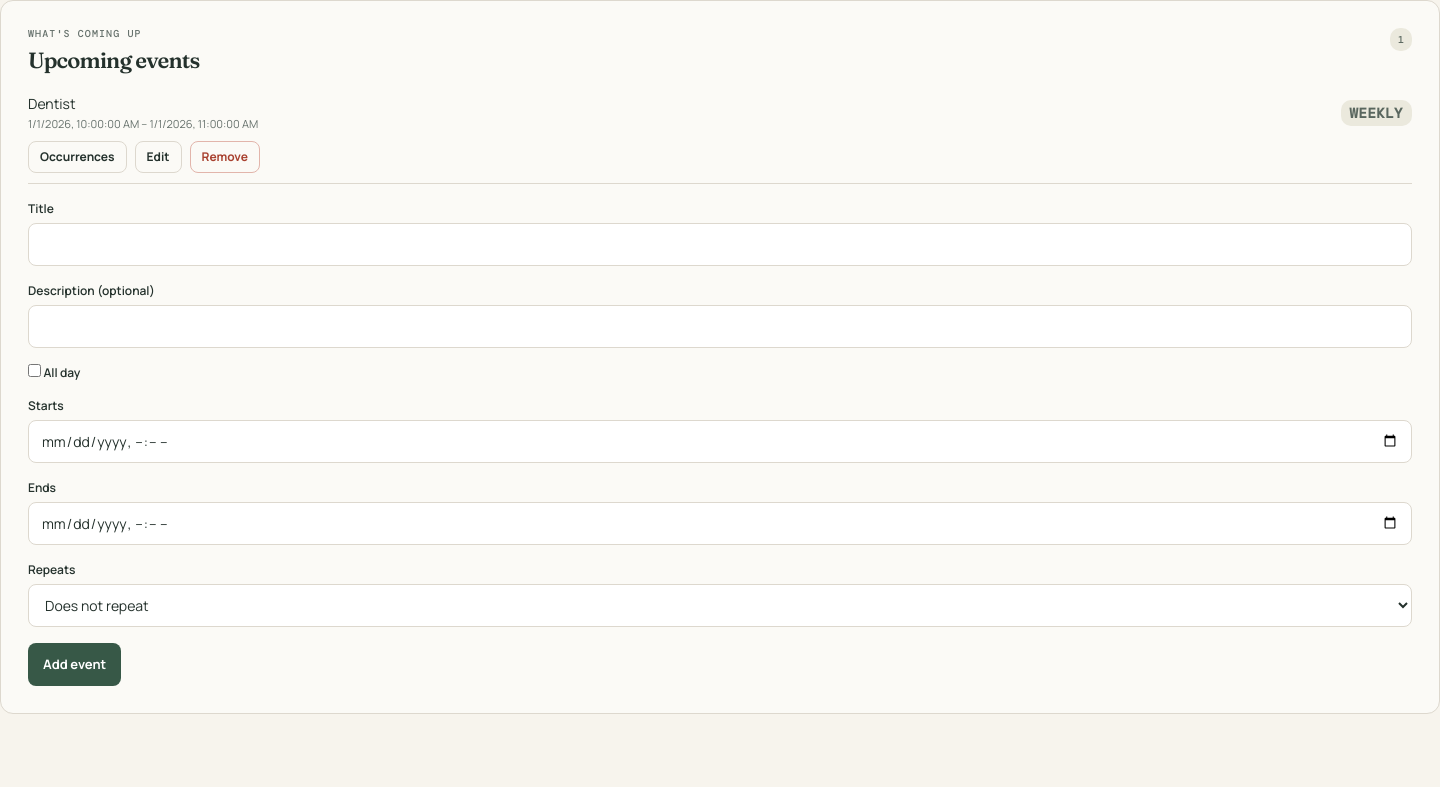
Test: CalendarPanel › loads and skips an occurrence for a recurring event
Click the button "Occurrences" at x=77, y=156, box [28,140,126,172]
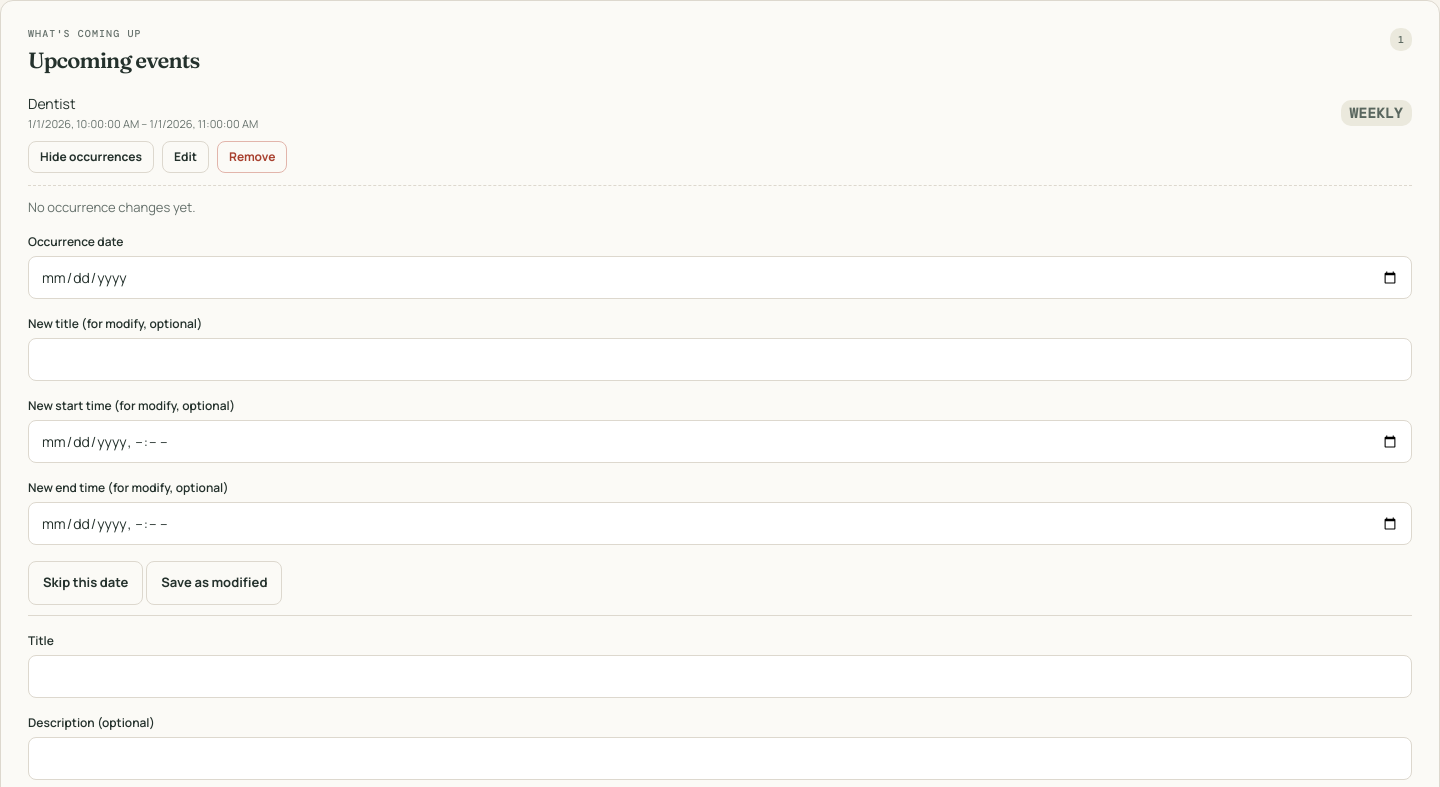
Type "2026-01-08" into the date field labelled "Occurrence date" at x=720, y=278, box [28,256,1412,299]
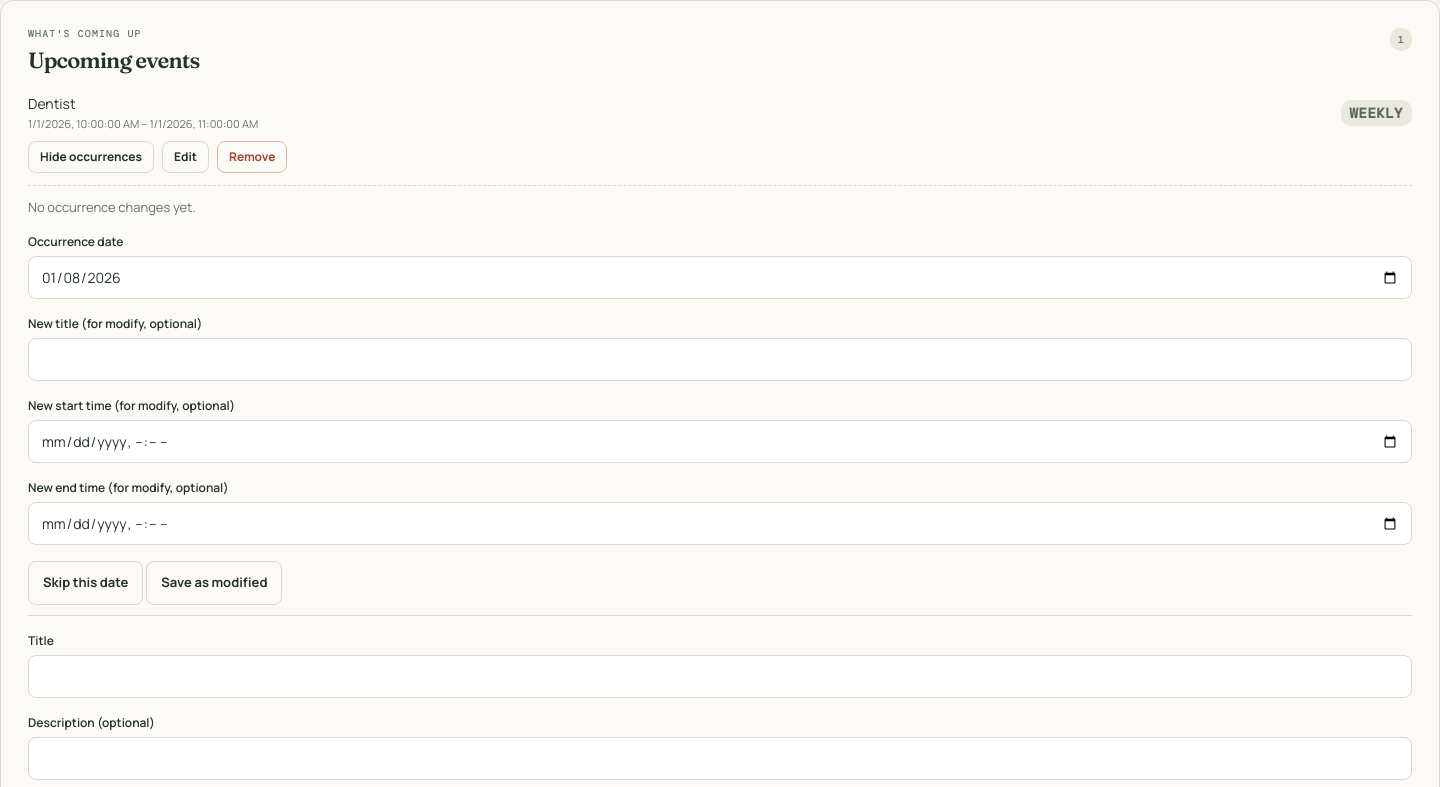
Click the button "Skip this date" at x=86, y=583, box [28,561,144,604]
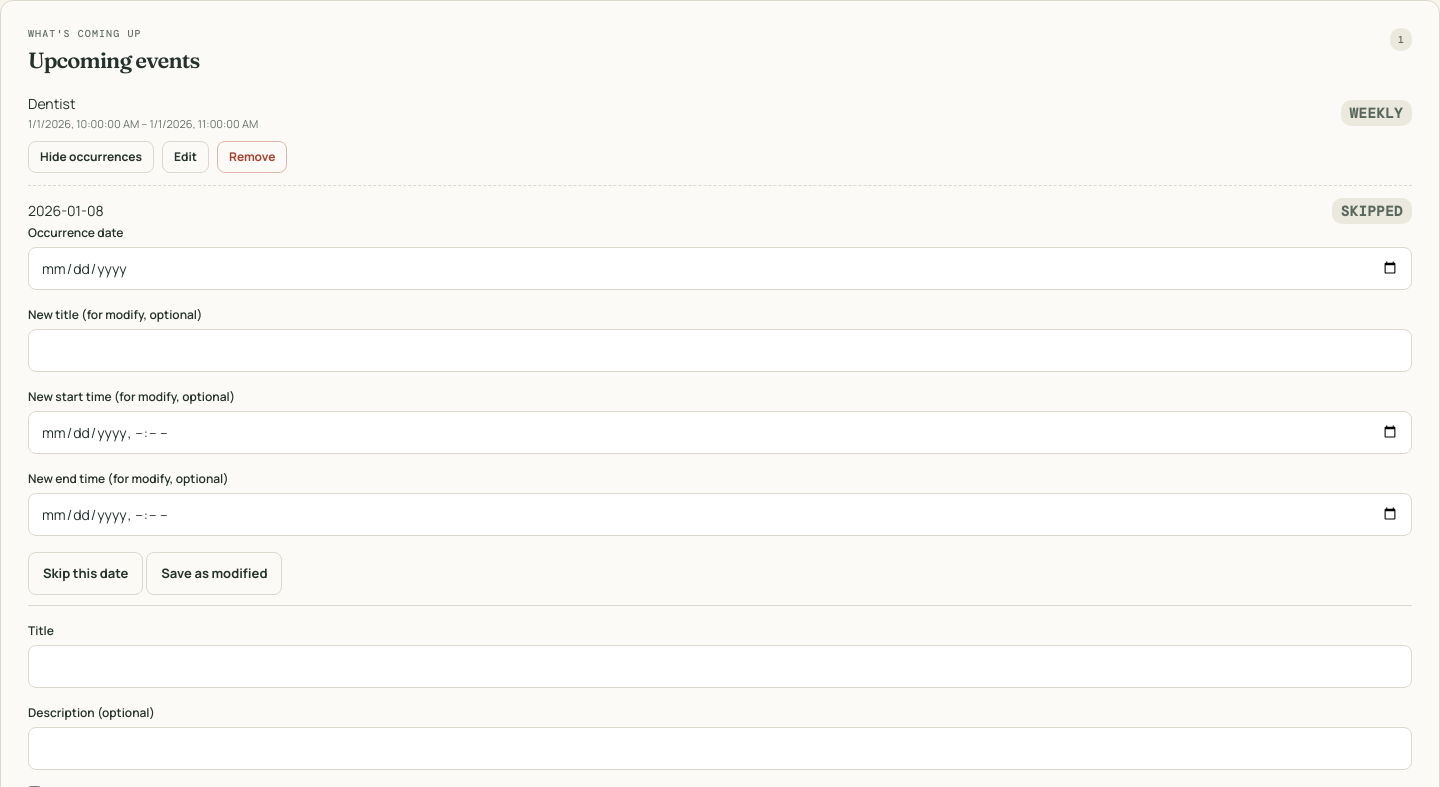
Expected: the text "2026-01-08" is shown, [28,200,104,221]
